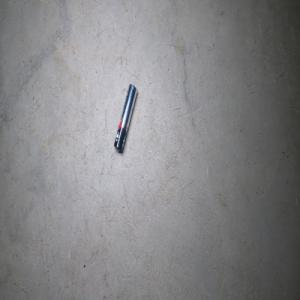Battery: (113, 83, 137, 153)
